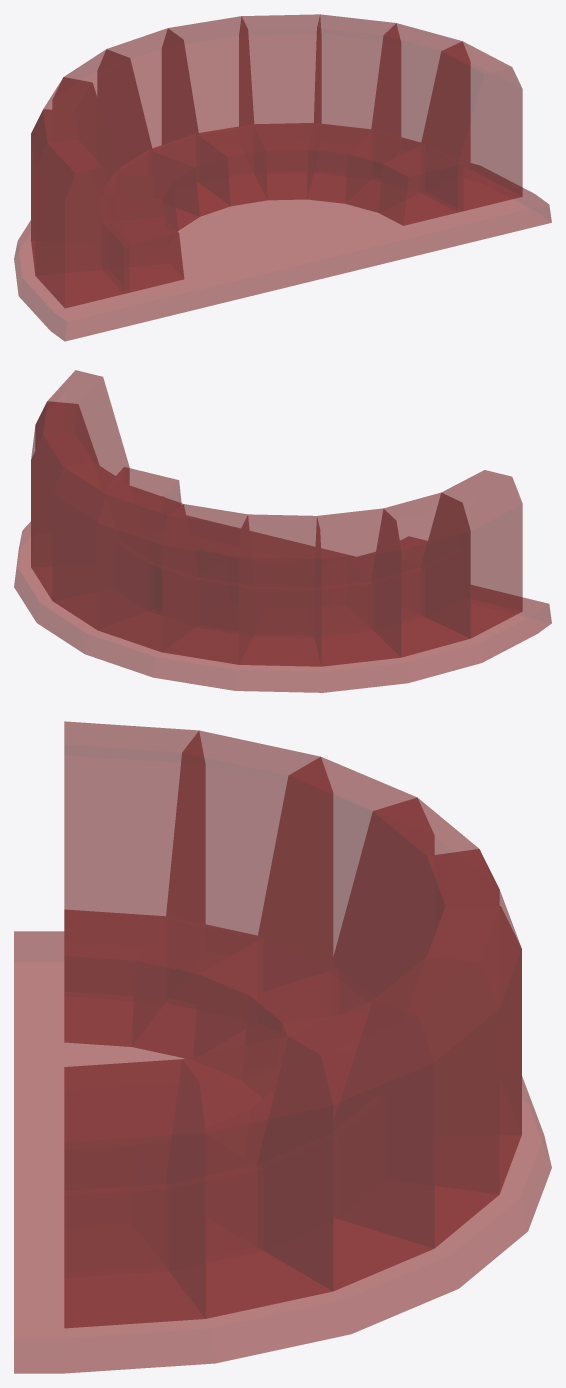
Rendered from SM_Prop_Seat_Bench_04_Collision.fbx.
3 renders of one model, top to bottom at view 1: azimuth 30°, elevation 25°; view 2: azimuth 150°, elevation 25°; view 3: azimuth 270°, elevation 25°, orthographic. The views are drawn at different scales.
Visible parts, largest first — view 1: SM_Prop_Seat_Bench_04_Collision; view 2: SM_Prop_Seat_Bench_04_Collision; view 3: SM_Prop_Seat_Bench_04_Collision.
Part boxes in pixels (left/top/right/bottom): SM_Prop_Seat_Bench_04_Collision: left=14, top=14, right=551, bottom=341; SM_Prop_Seat_Bench_04_Collision: left=14, top=370, right=551, bottom=692; SM_Prop_Seat_Bench_04_Collision: left=14, top=721, right=551, bottom=1373.
Bounding box in the file's own units: 505 × 150 × 279.
